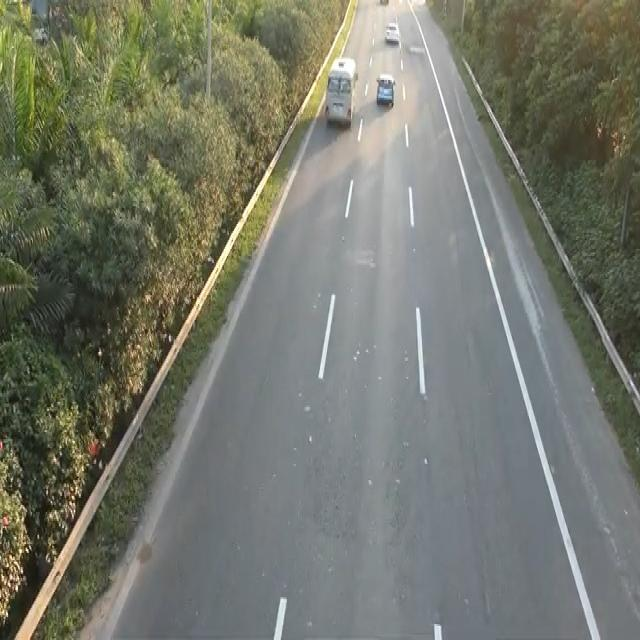bus: (375, 71, 395, 107)
jeep: (323, 53, 358, 128)
